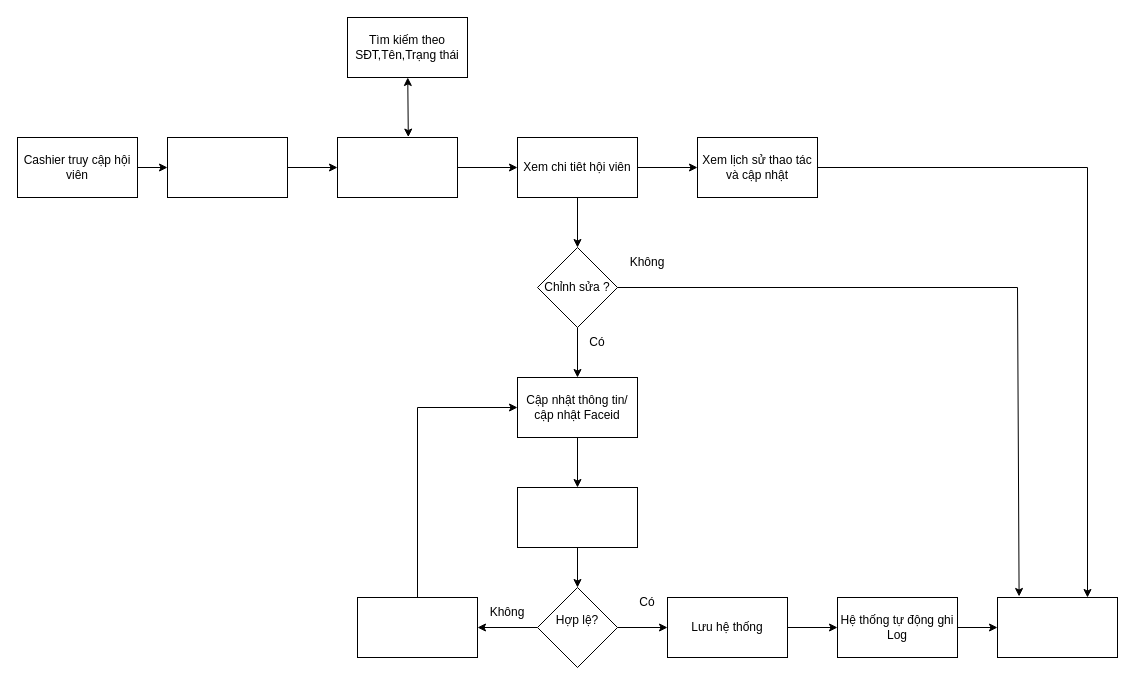
Some shapes in this 1135 by 685 pixel diagram are drawn without their labels. Each missing label, with the box of its shape:
Danh sách hội viên: (166, 136, 288, 198)
Hệ thống hiển thị danh sách nhân viên: (336, 136, 458, 198)
Hệ thống kiểm tra dữ liệu: (516, 486, 638, 548)
Kết thúc: (996, 596, 1118, 658)
Thông báo lỗi: (356, 596, 478, 658)
